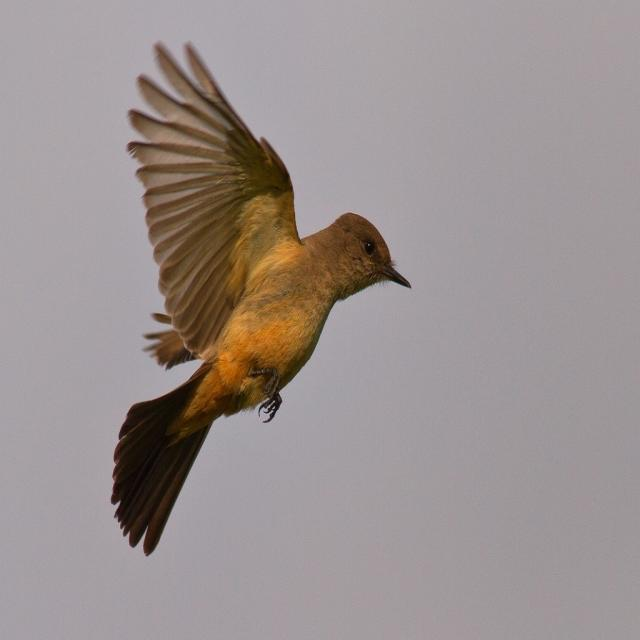bird: (108, 32, 418, 565)
